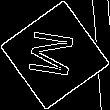M_E: (26, 28, 84, 82)
